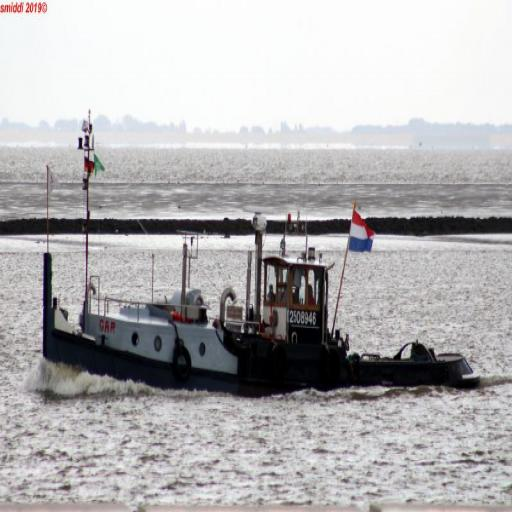tugboat: (42, 158, 486, 415)
